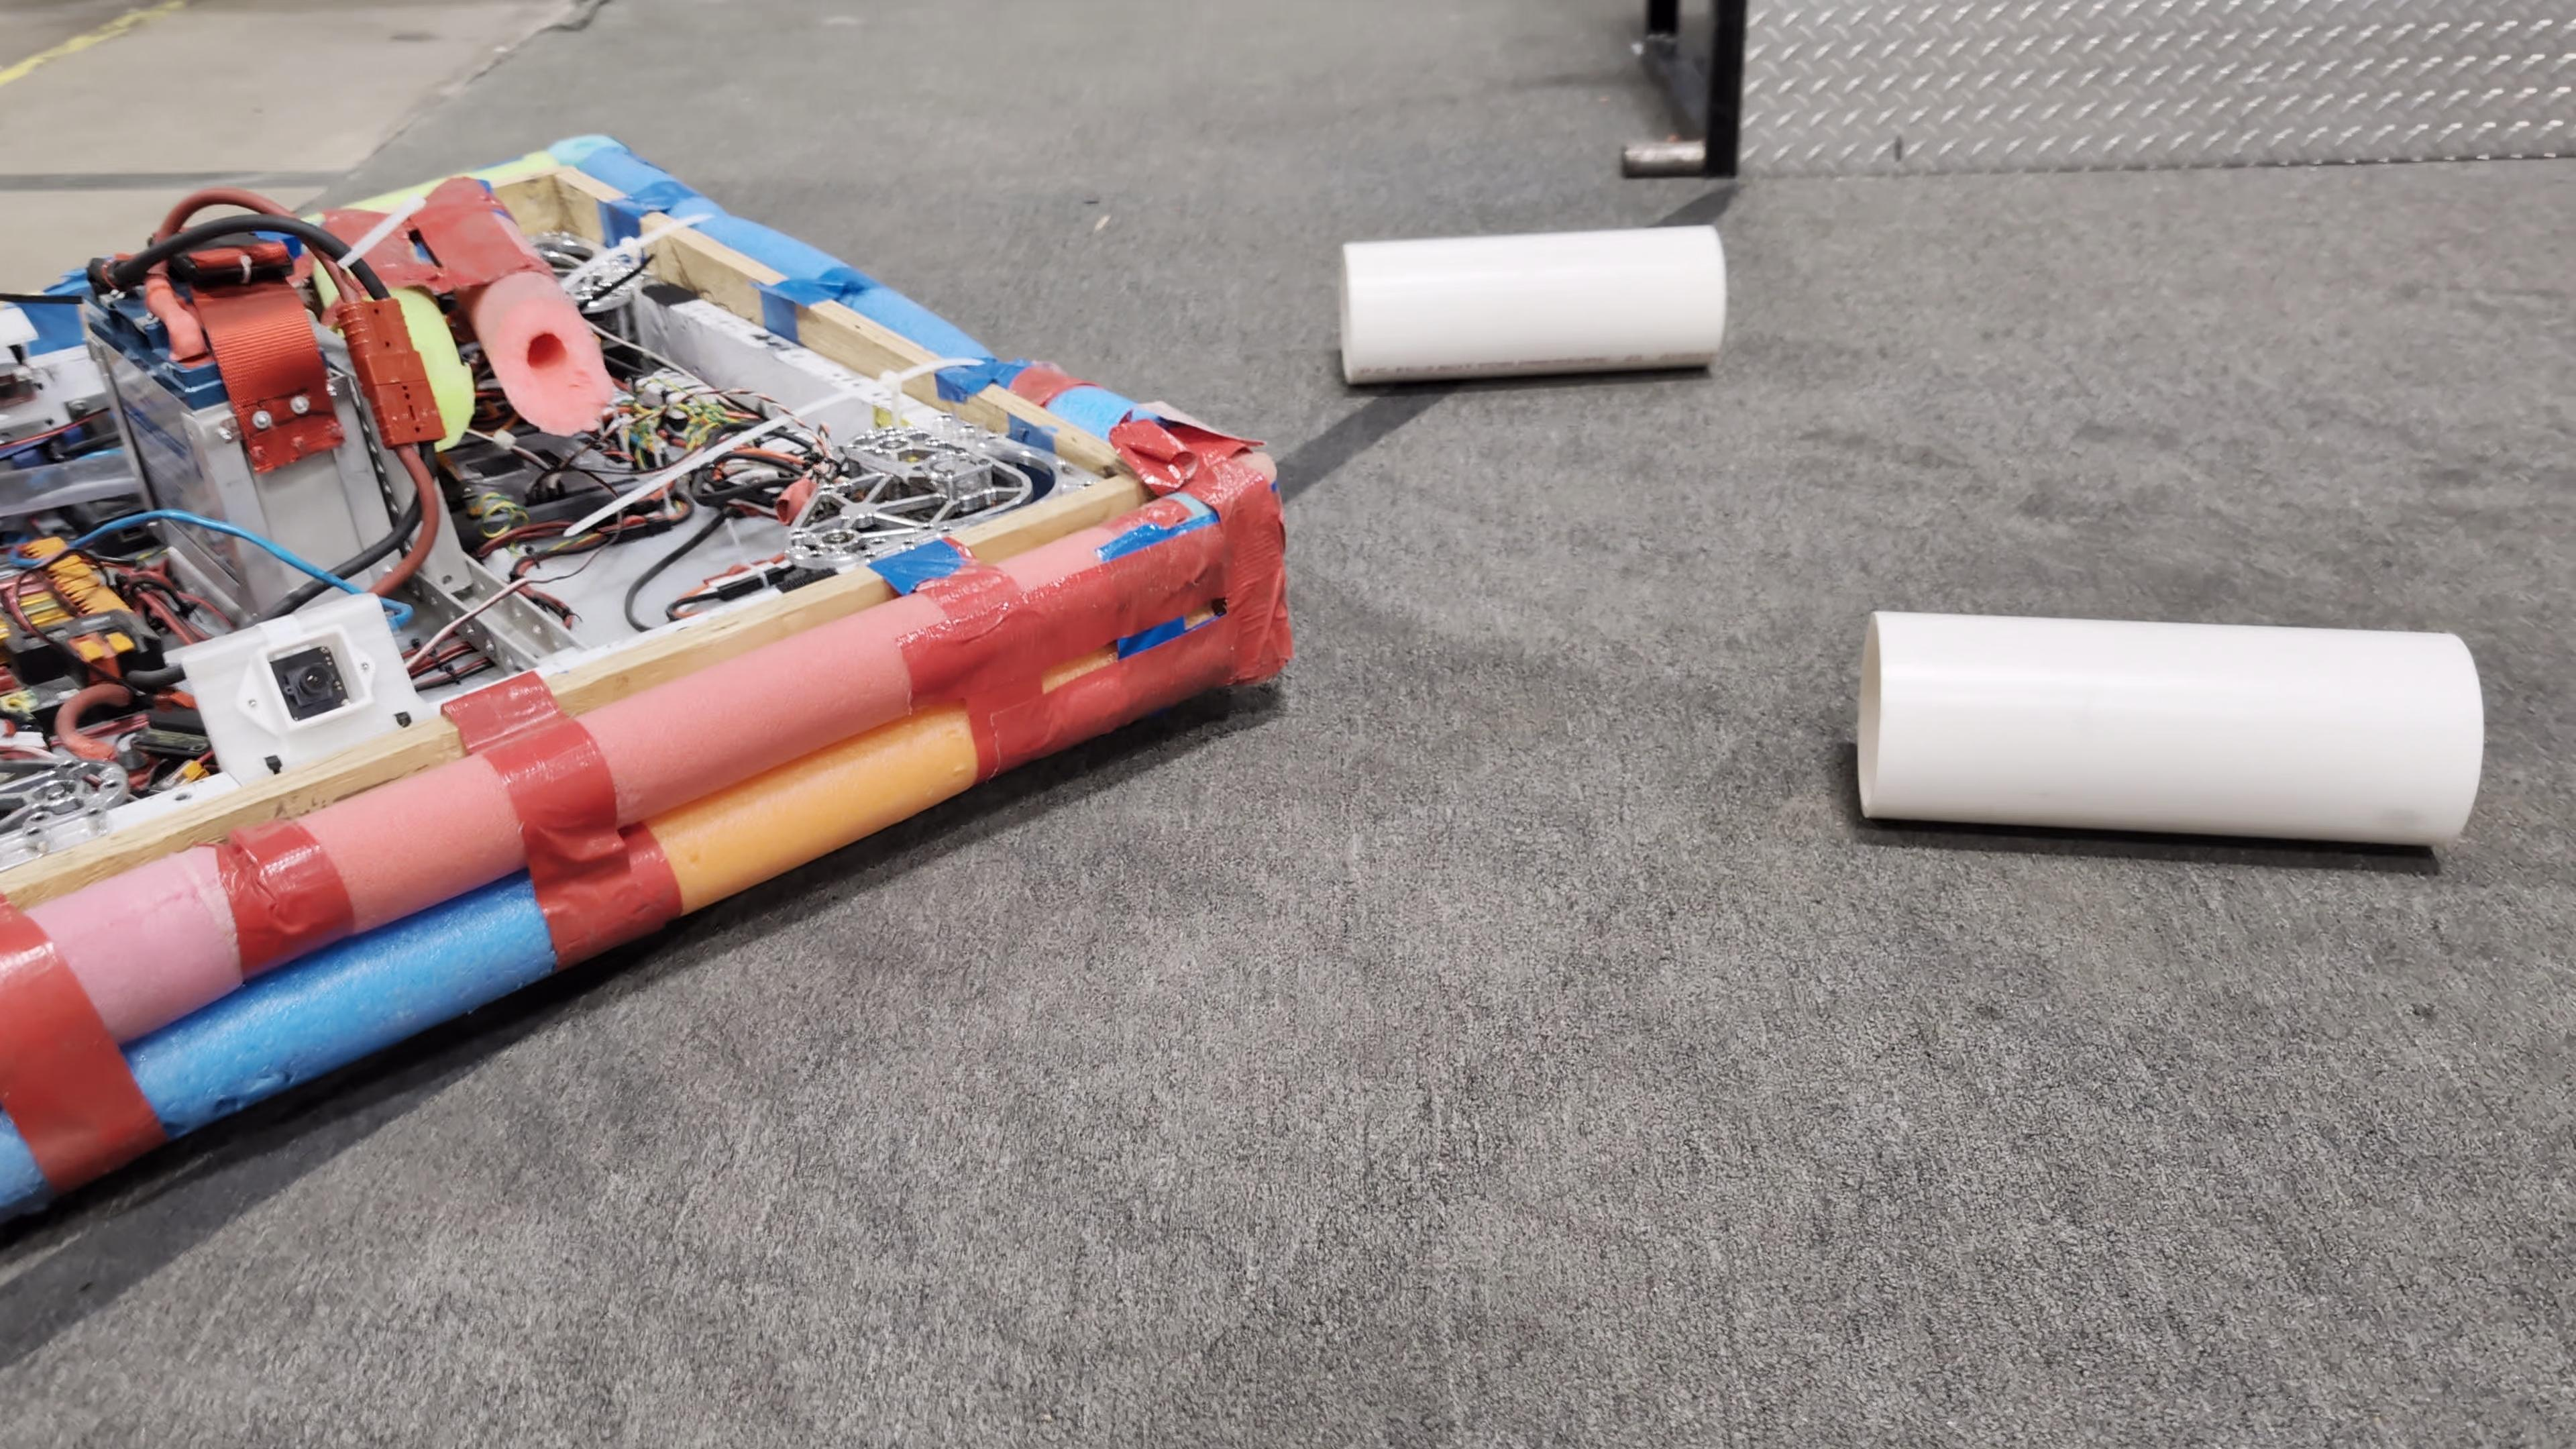coral: (1854, 605, 2484, 849), (1338, 218, 1727, 384)
